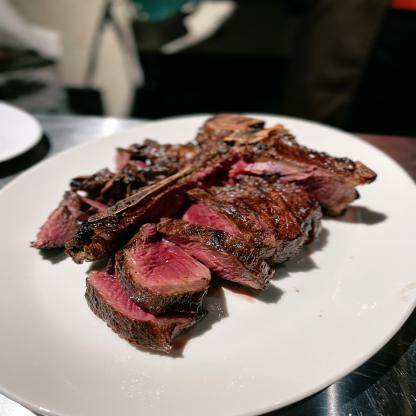Carne: (248, 127, 378, 221), (160, 214, 265, 299), (79, 272, 194, 347), (117, 223, 209, 302), (230, 176, 314, 250), (188, 194, 268, 261), (8, 194, 93, 246)
